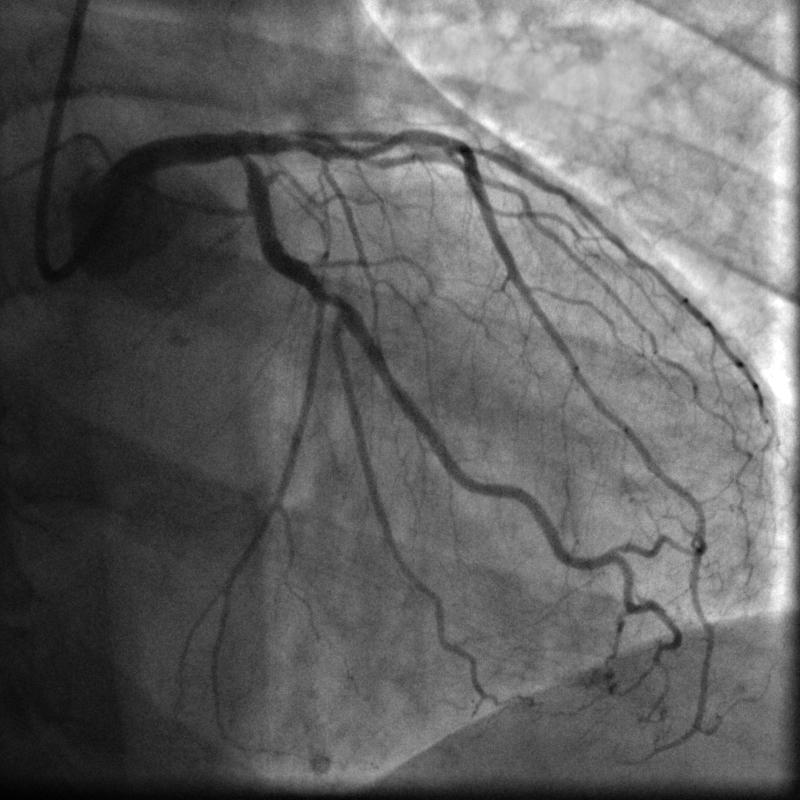Stenosis: (320, 284, 343, 309)
